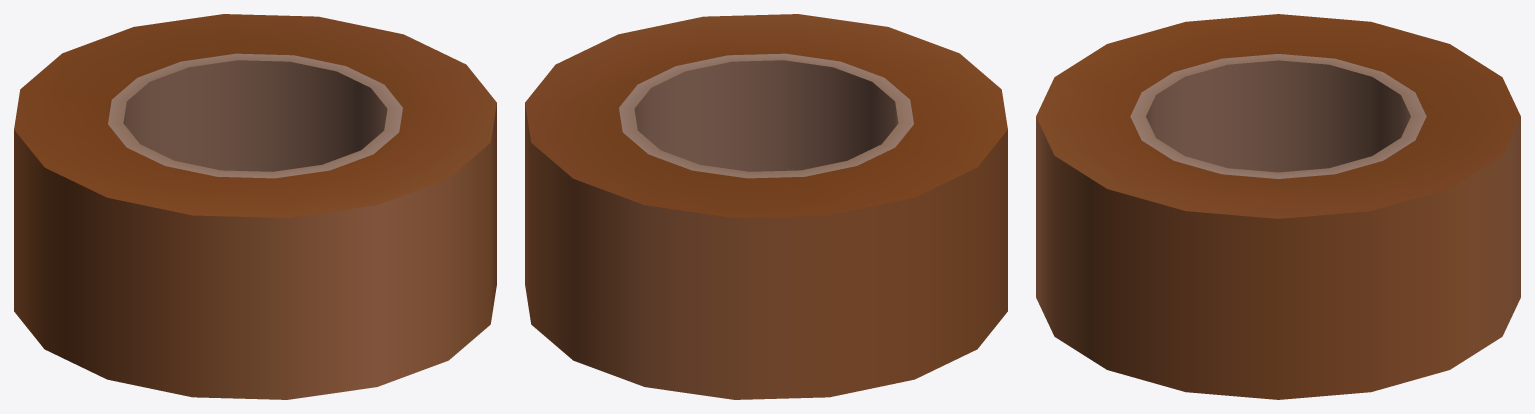
Rendered from tape.glb.
3 renders of one model, left to right at view 1: azimuth 30°, elevation 25°; view 2: azimuth 150°, elevation 25°; view 3: azimuth 270°, elevation 25°, orthographic.
Parts seen in each view (by area): view 1: tape3; view 2: tape3; view 3: tape3.
Boxes of the visible parts, x1,y1,x2,y2 form: tape3: (14,14,496,399); tape3: (525,14,1007,399); tape3: (1036,14,1520,399).
Bounding box in the file's own units: 0.1 × 0.0412 × 0.1.
1 material, 1 textured.
